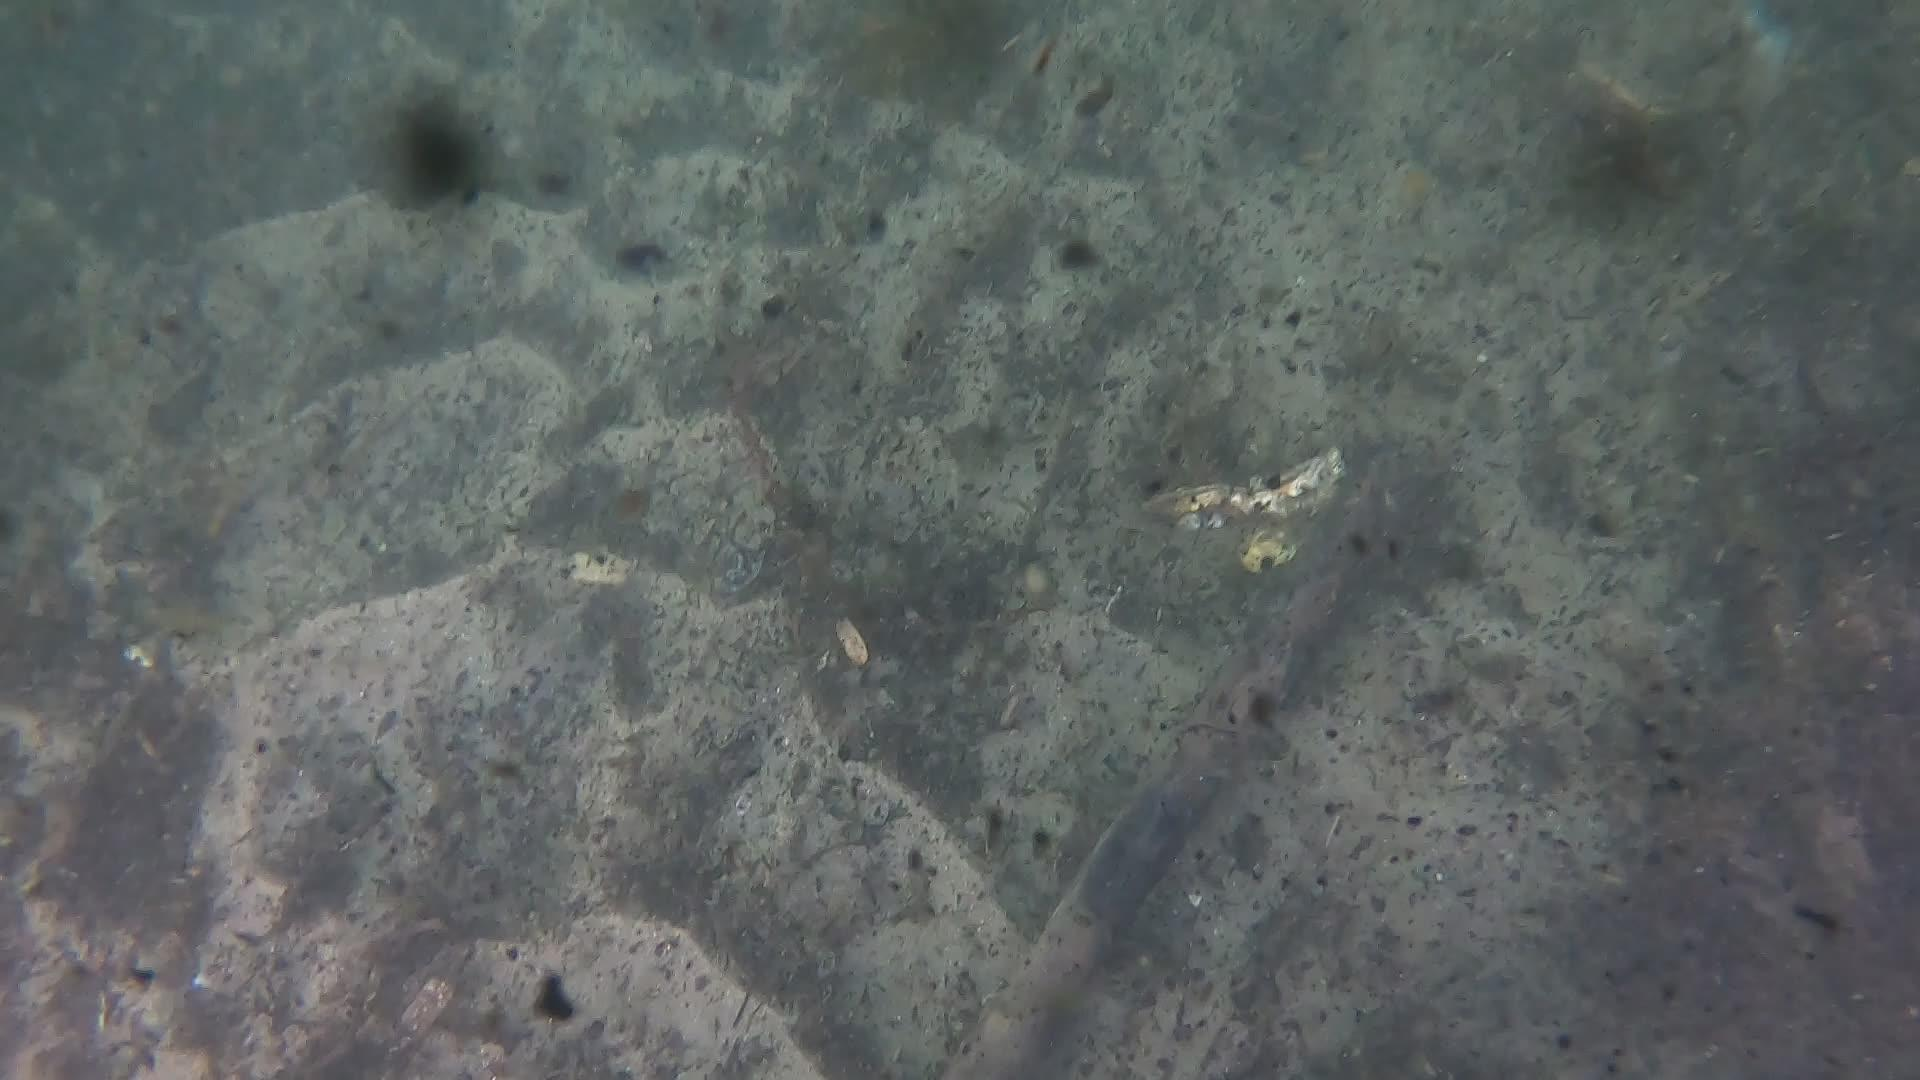wood: (945, 446, 1447, 1080)
